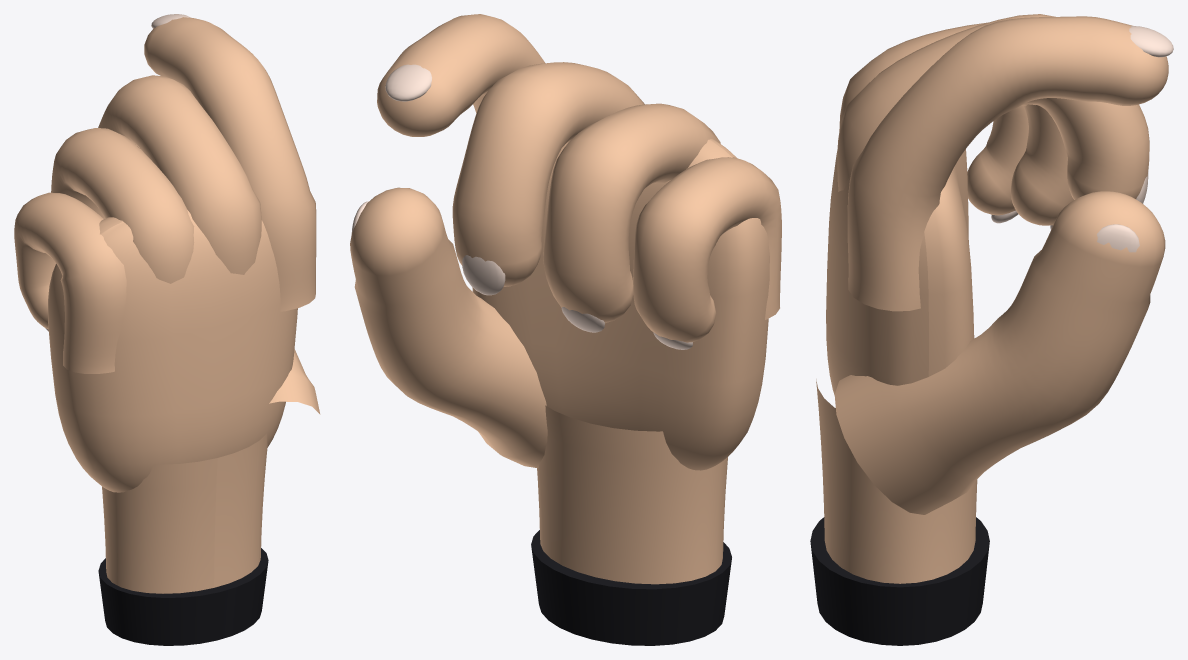
The model's file is hand-left-pinch.glb.
3 views of the same model, side by side, from view 1: azimuth 30°, elevation 25°; view 2: azimuth 150°, elevation 25°; view 3: azimuth 270°, elevation 25° (orthographic). The views are drawn at different scales.
Parts seen in each view (by area): view 1: hand-left-pinch; view 2: hand-left-pinch; view 3: hand-left-pinch.
Part boxes in pixels (x1,y1,x2,y2): hand-left-pinch: (14, 14, 320, 645); hand-left-pinch: (350, 14, 781, 645); hand-left-pinch: (810, 14, 1173, 645).
Size of the model in its own units: 0.09 by 0.163 by 0.0846.
